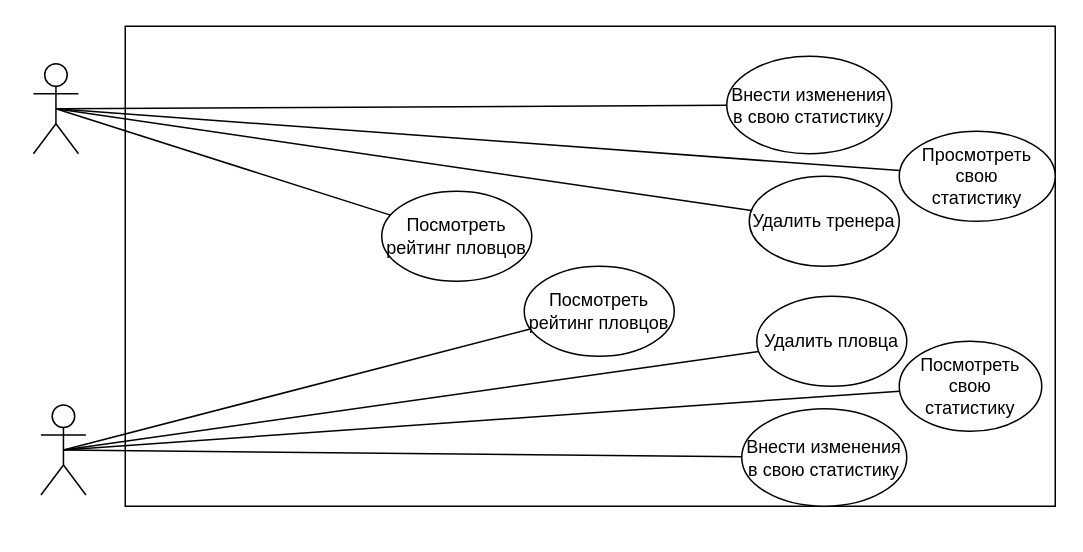
Some shapes in this 1083 by 552 pixel diagram are drawn without their labels. Each missing label, with the centre of its shape:
Пловец: pixel 62 449
Тренер: pixel 55 108
